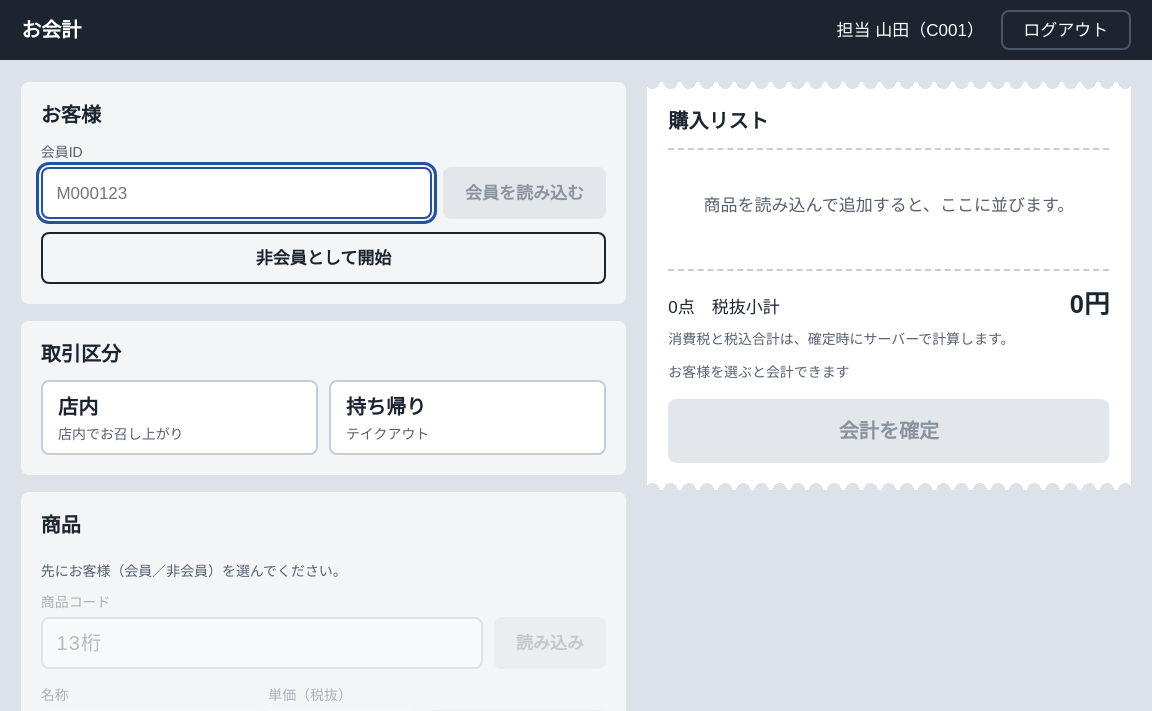
Test: S-02 POSメイン画面 › T-011 会員IDを読み込むと表示名だけが出る
Type "m000123" into the field labelled "会員ID".
click(237, 194); type("m000123")  # box [41,168,432,220]
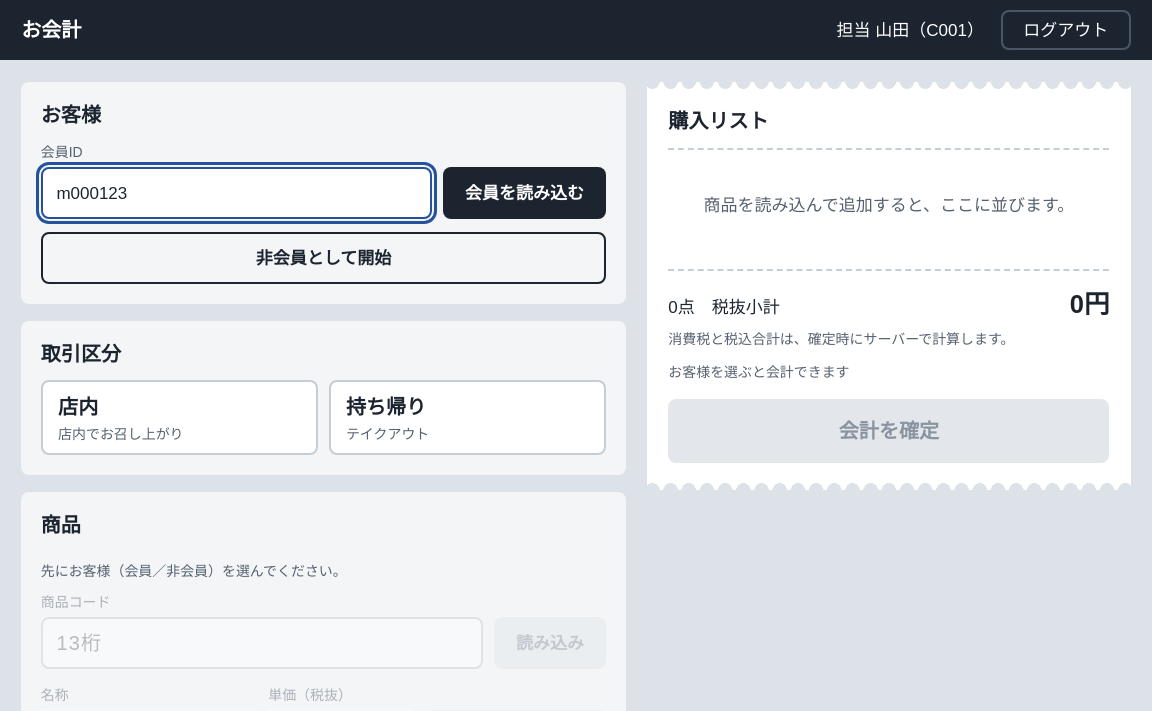
Click the button "会員を読み込む".
click(524, 194)  # box [442,168,606,220]
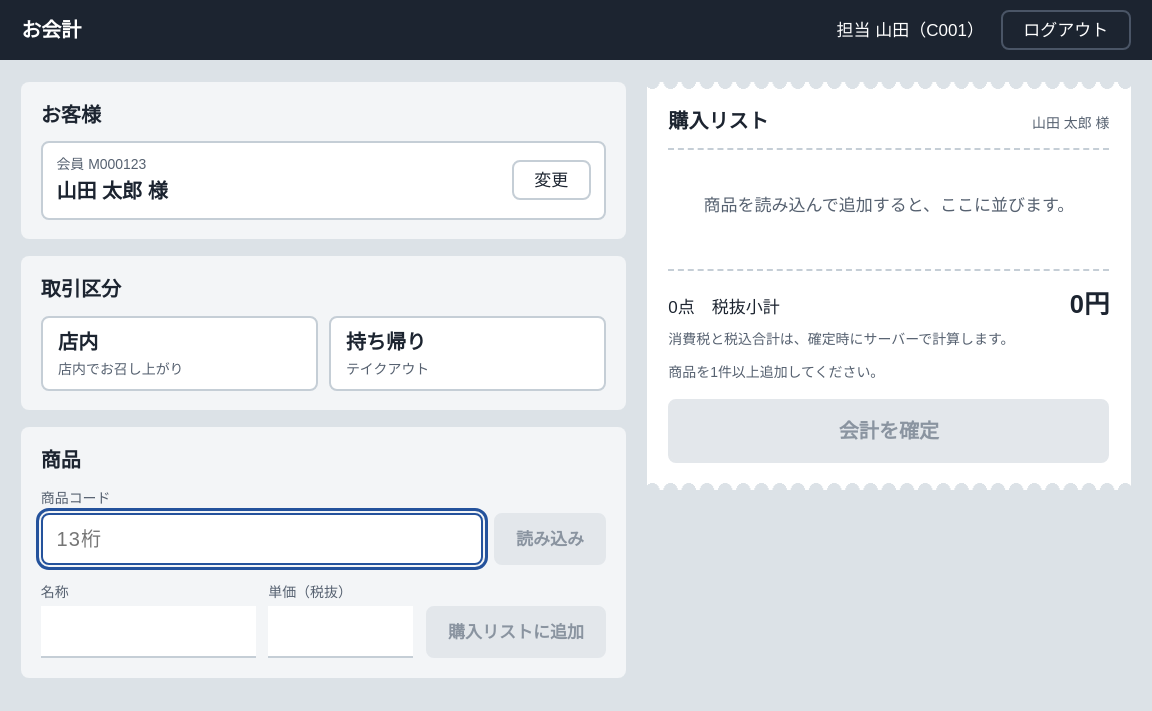
Check: the text with test id "member-name" reads "山田 太郎 様", box [56,180,168,202]
